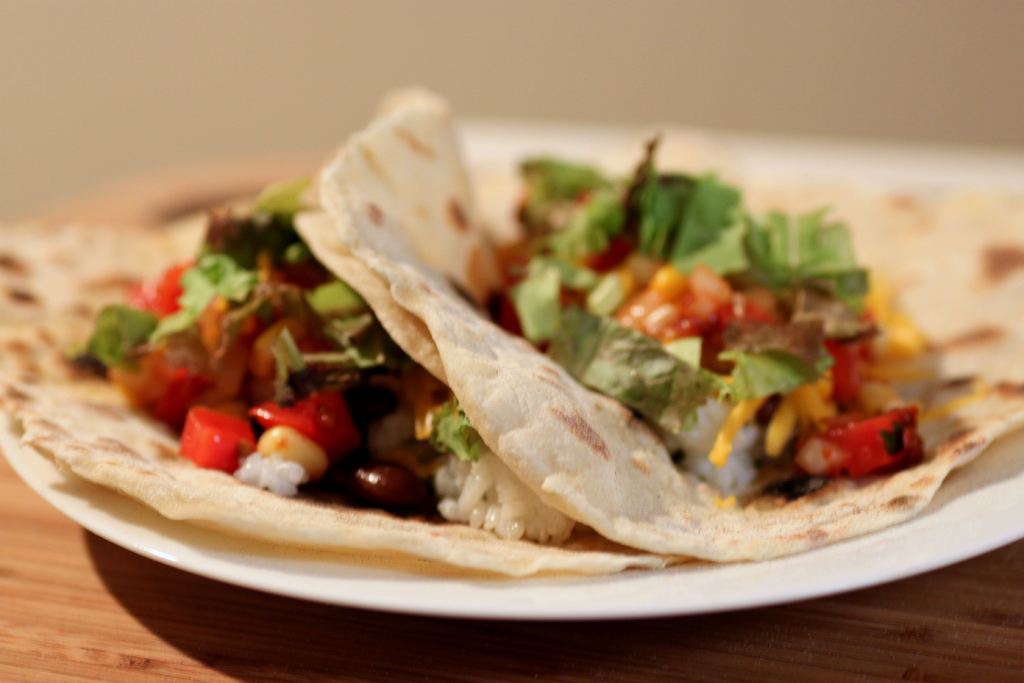taco: (320, 81, 1023, 563), (5, 195, 658, 583)
